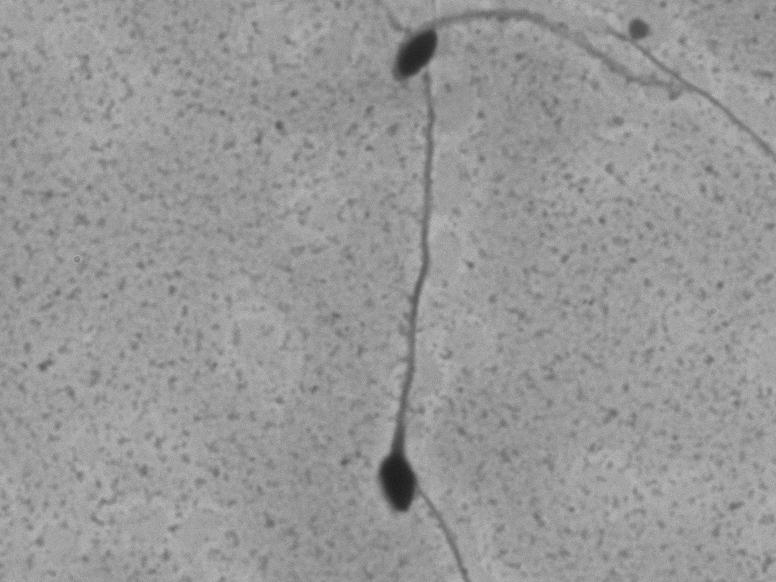Abnormal: (367, 63, 442, 526)
